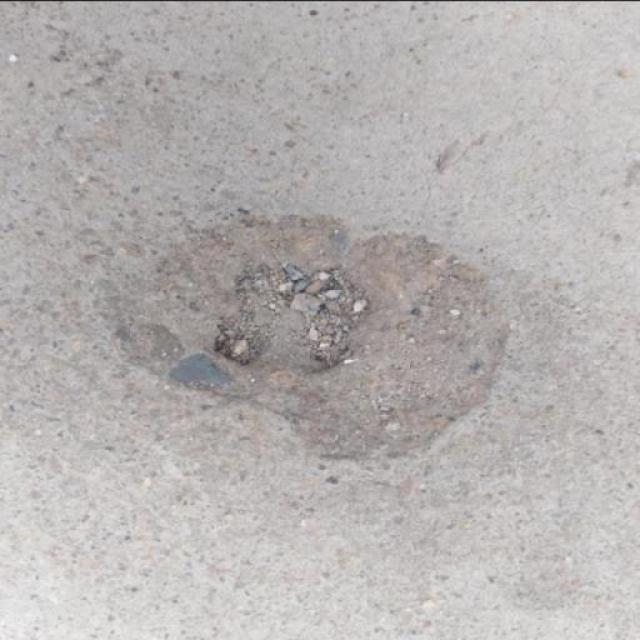D10: (128, 226, 488, 450)
